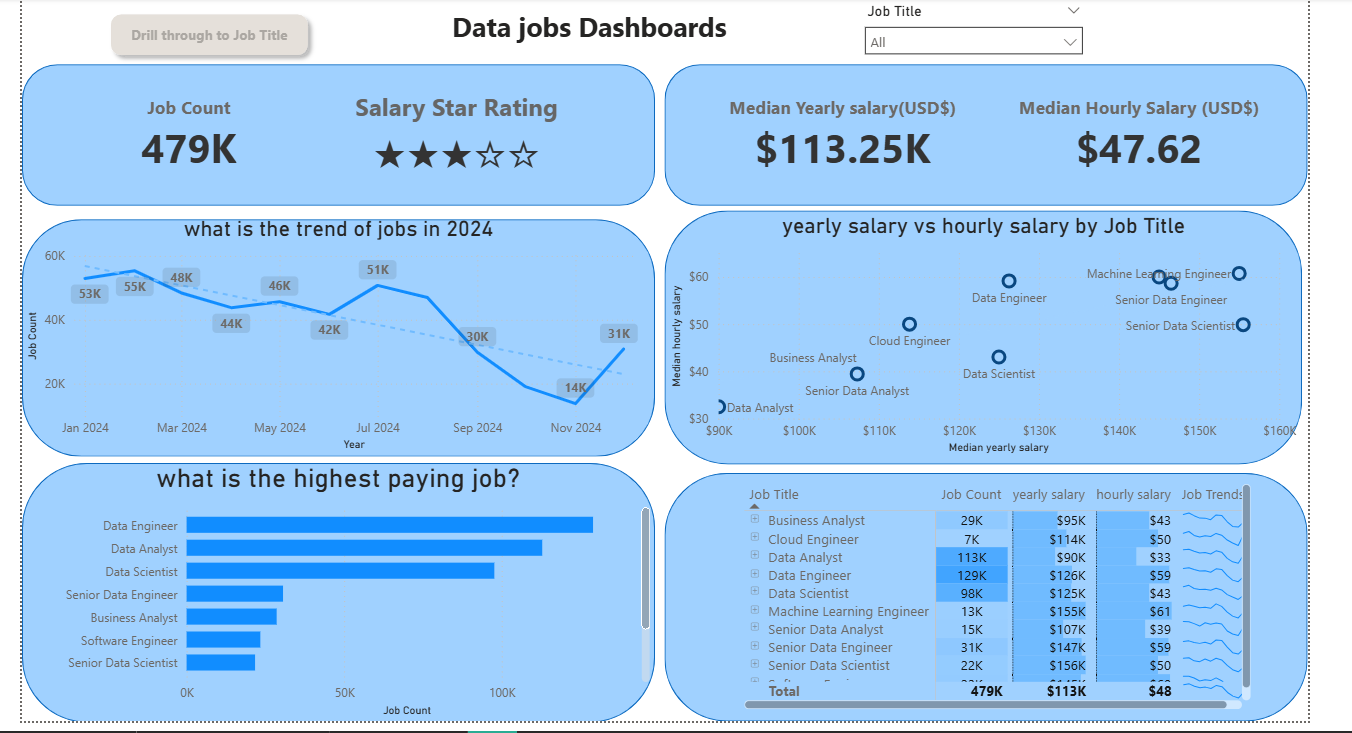

This screenshot's page, from the dashboard's own definition file:
{"tool":"powerbi","page":{"name":"Data jobs Dashboard","canvas":[1280,720],"ordinal":0},"visuals":[{"type":"group","id":"g1","title":"Shapes","box":[0,65.5,1280,654.5],"z":0},{"type":"shape","box":[0,65.5,630,140.9],"z":0,"group":"g1"},{"type":"slicer","fields":{"Values":["job_postings_flat.job_title_short"]},"box":[828.2,0,237.3,65.5],"z":1000},{"type":"shape","box":[640,65.5,640,140.9],"z":1000,"group":"g1"},{"type":"textbox","box":[415.5,4.5,298.2,46.4],"z":2000},{"type":"shape","box":[0,219.1,630,236.4],"z":2000,"group":"g1"},{"type":"cardVisual","fields":{"Data":["CountNonNull(job_postings_flat.job_title_short)"]},"box":[30.9,70,270,132.7],"z":3000},{"type":"shape","box":[0,461.9,630,258.2],"z":3000,"group":"g1"},{"type":"cardVisual","fields":{"Data":["Median(job_postings_flat.salary_year_avg)"]},"box":[674.5,70,285.5,132.7],"z":4000},{"type":"shape","box":[640,472.8,640,247.3],"z":4000,"group":"g1"},{"type":"cardVisual","fields":{"Data":["Median(job_postings_flat.salary_hour_avg)"]},"box":[960,70,303.6,132.7],"z":5000},{"type":"shape","box":[640,211,634.5,252.7],"z":5000,"group":"g1"},{"type":"cardVisual","fields":{"Data":["job_postings_flat.Median of salary_year_avg star rating"]},"box":[300.9,70,263.6,132.7],"z":6000},{"type":"lineChart","title":"what is the trend of jobs in 2024","fields":{"Category":["job_postings_flat.job_posted_date.Variation.Date Hierarchy.Year","job_postings_flat.job_posted_date.Variation.Date Hierarchy.Quarter","job_postings_flat.job_posted_date.Variation.Date Hierarchy.Month","job_postings_flat.job_posted_date.Variation.Date Hierarchy.Day"],"Y":["CountNonNull(job_postings_flat.job_title_short)"]},"box":[0,216.4,630,239.1],"z":7000},{"type":"barChart","title":"what is the highest paying job?","fields":{"Category":["job_postings_flat.job_title_short"],"Y":["CountNonNull(job_postings_flat.job_title_short)"]},"box":[0,461.8,630,258.2],"z":8000},{"type":"scatterChart","title":" yearly salary vs hourly salary by Job Title","fields":{"X":["Median(job_postings_flat.salary_year_avg)"],"Y":["Median(job_postings_flat.salary_hour_avg)"],"Series":["job_postings_flat.job_title_short"]},"box":[640.9,214.5,632.7,244.5],"z":9000},{"type":"pivotTable","fields":{"Rows":["job_postings_flat.job_title_short","job_postings_flat.job_posted_date.Variation.Date Hierarchy.Quarter"],"Values":["CountNonNull(job_postings_flat.job_title_short)","Median(job_postings_flat.salary_year_avg)","Median(job_postings_flat.salary_hour_avg)","SparklineData(CountNonNull(job_postings_flat.job_title_short)_[job_postings_flat.job_posted_date.Variation.Date Hierarch"]},"box":[713.6,479.1,513.6,233.6],"z":10000},{"type":"actionButton","box":[79.1,7.3,213.6,58.2],"z":10001}]}

Visuals, with their boxes in screenshot pixels (x1, y1, x2, y2):
"Shapes" group: bbox=(18, 66, 1302, 722)
shape: bbox=(18, 66, 650, 207)
slicer - job_postings_flat.job_title_short: bbox=(848, 0, 1086, 66)
shape: bbox=(660, 66, 1302, 207)
textbox: bbox=(434, 5, 733, 51)
shape: bbox=(18, 220, 650, 457)
cardVisual - CountNonNull(job_postings_flat.job_title_short): bbox=(49, 70, 319, 203)
shape: bbox=(18, 463, 650, 722)
cardVisual - Median(job_postings_flat.salary_year_avg): bbox=(694, 70, 981, 203)
shape: bbox=(660, 474, 1302, 722)
cardVisual - Median(job_postings_flat.salary_hour_avg): bbox=(981, 70, 1285, 203)
shape: bbox=(660, 212, 1296, 465)
cardVisual - job_postings_flat.Median of salary_year_avg star rating: bbox=(319, 70, 584, 203)
"what is the trend of jobs in 2024" lineChart: bbox=(18, 217, 650, 457)
"what is the highest paying job?" barChart: bbox=(18, 463, 650, 722)
" yearly salary vs hourly salary by Job Title" scatterChart: bbox=(660, 215, 1295, 460)
pivotTable - job_postings_flat.job_title_short x job_postings_flat.job_posted_date.Variation.Date Hierarchy.Quarter: bbox=(733, 481, 1249, 715)
actionButton: bbox=(97, 7, 311, 66)
